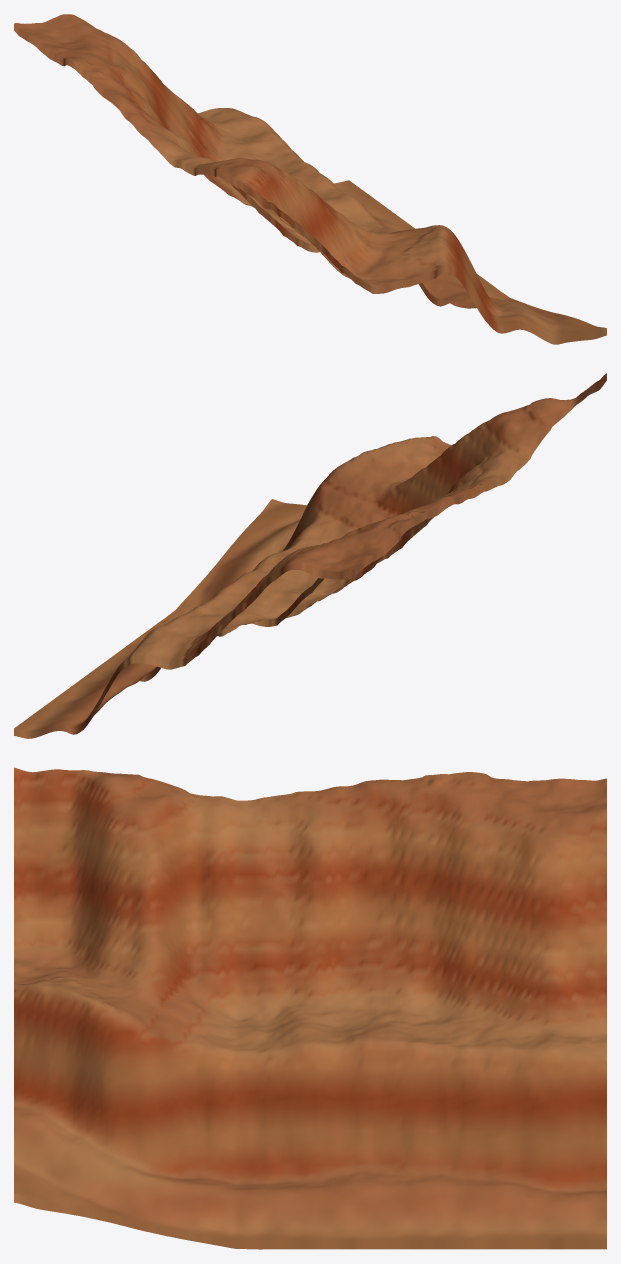
The model's file is terrain-015.glb.
The picture shows the model from 3 angles, top to bottom: view 1: azimuth 30°, elevation 25°; view 2: azimuth 150°, elevation 25°; view 3: azimuth 270°, elevation 25°; orthographic projection. The views are drawn at different scales.
Visible parts, largest first — view 1: terrain-015; view 2: terrain-015; view 3: terrain-015.
Boxes of the visible parts, x1=… form: terrain-015: x1=14, y1=14, x2=606, y2=344; terrain-015: x1=14, y1=373, x2=606, y2=738; terrain-015: x1=14, y1=767, x2=606, y2=1249.
Bounding box in the file's own units: 192 × 140 × 256.
